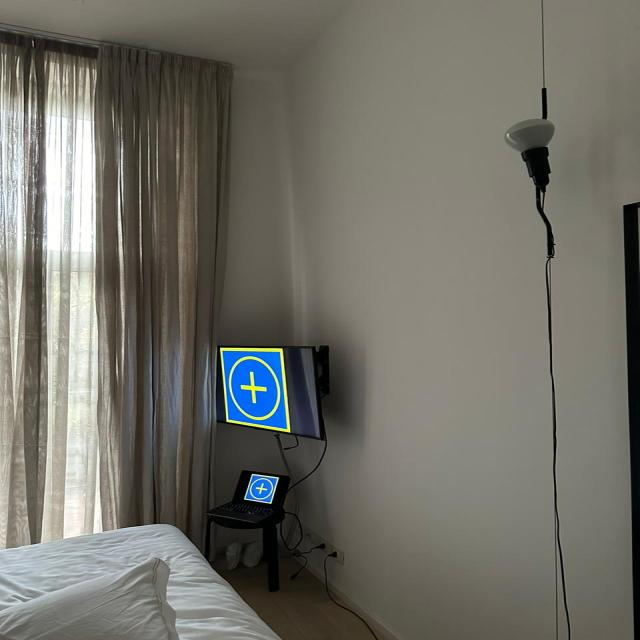Marker: (217, 345, 297, 435), (244, 474, 279, 504)
